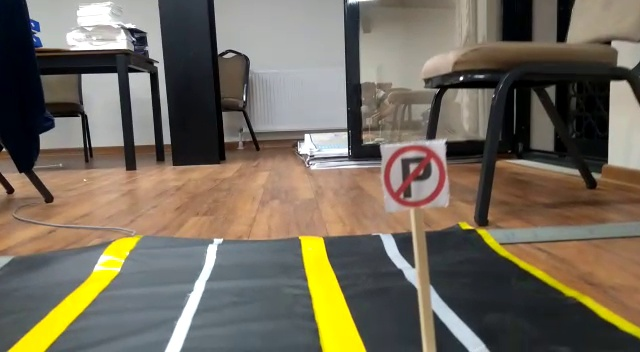park_yapilmaz: (381, 146, 446, 206)
